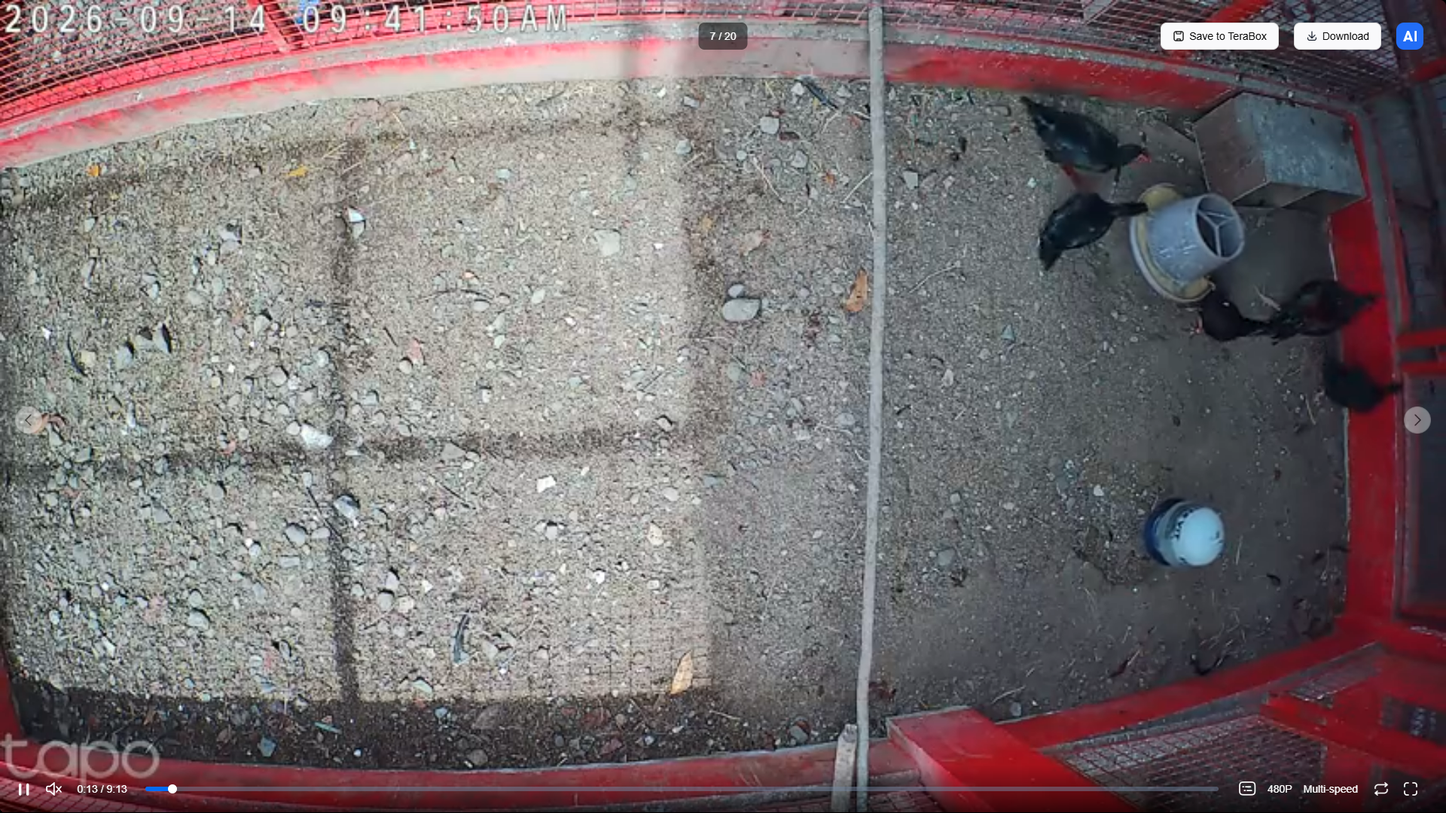Chicken: (1016, 90, 1152, 172), (1032, 193, 1151, 273), (1302, 350, 1403, 444), (1185, 293, 1287, 354)
Drinker: (1146, 497, 1225, 568)
Feeder: (1130, 178, 1247, 303)
Rooster: (1252, 276, 1394, 346)
